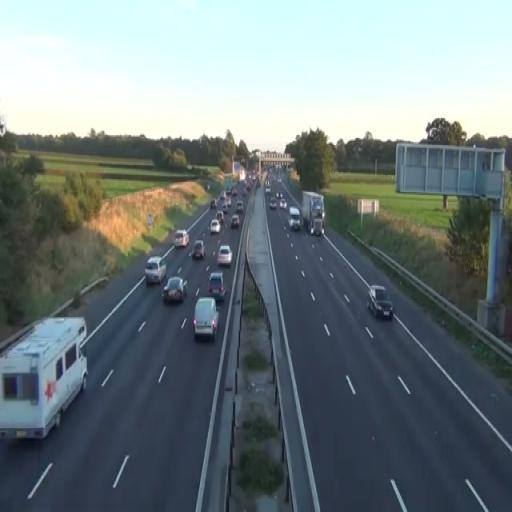Bus: (0, 315, 90, 442)
Car: (192, 297, 219, 343), (366, 284, 394, 320), (162, 276, 188, 304), (144, 257, 167, 285), (206, 271, 226, 302), (172, 229, 190, 249), (288, 206, 302, 230), (217, 245, 232, 267), (192, 240, 206, 261), (210, 218, 220, 236), (230, 215, 240, 229)
Truck: (0, 316, 89, 442), (302, 191, 324, 236)
